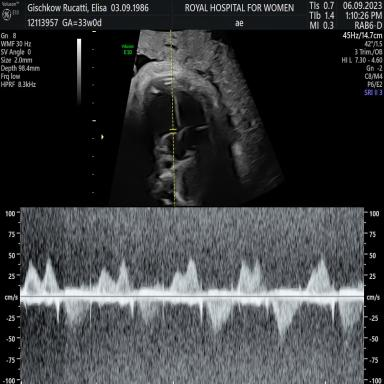Ultrasound-Waves: (26, 209, 359, 384)
